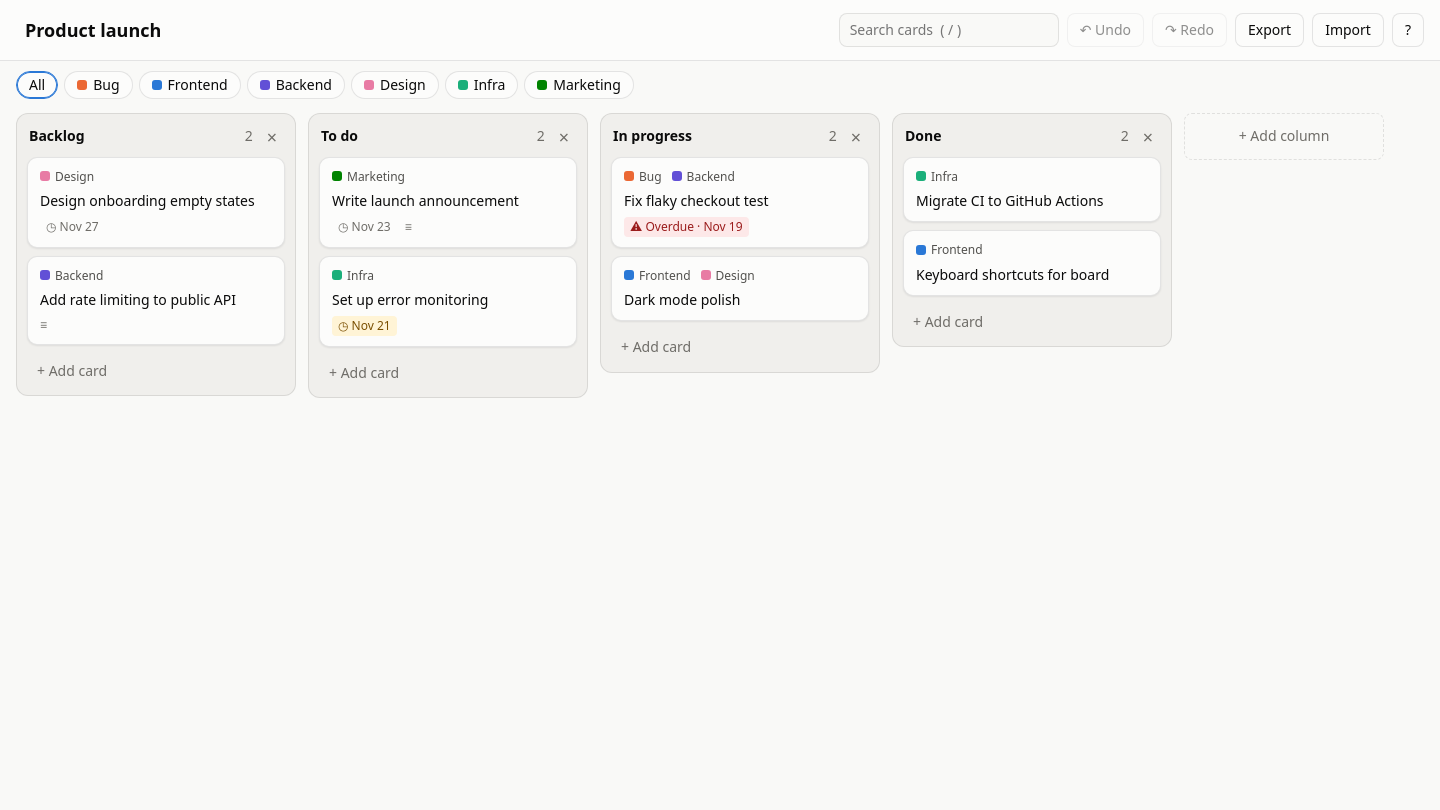
<App /> › adds a card and undoes it with the keyboard
Click the 3rd button "+ Add card". click: (72, 370)
box: [25,355,287,387]
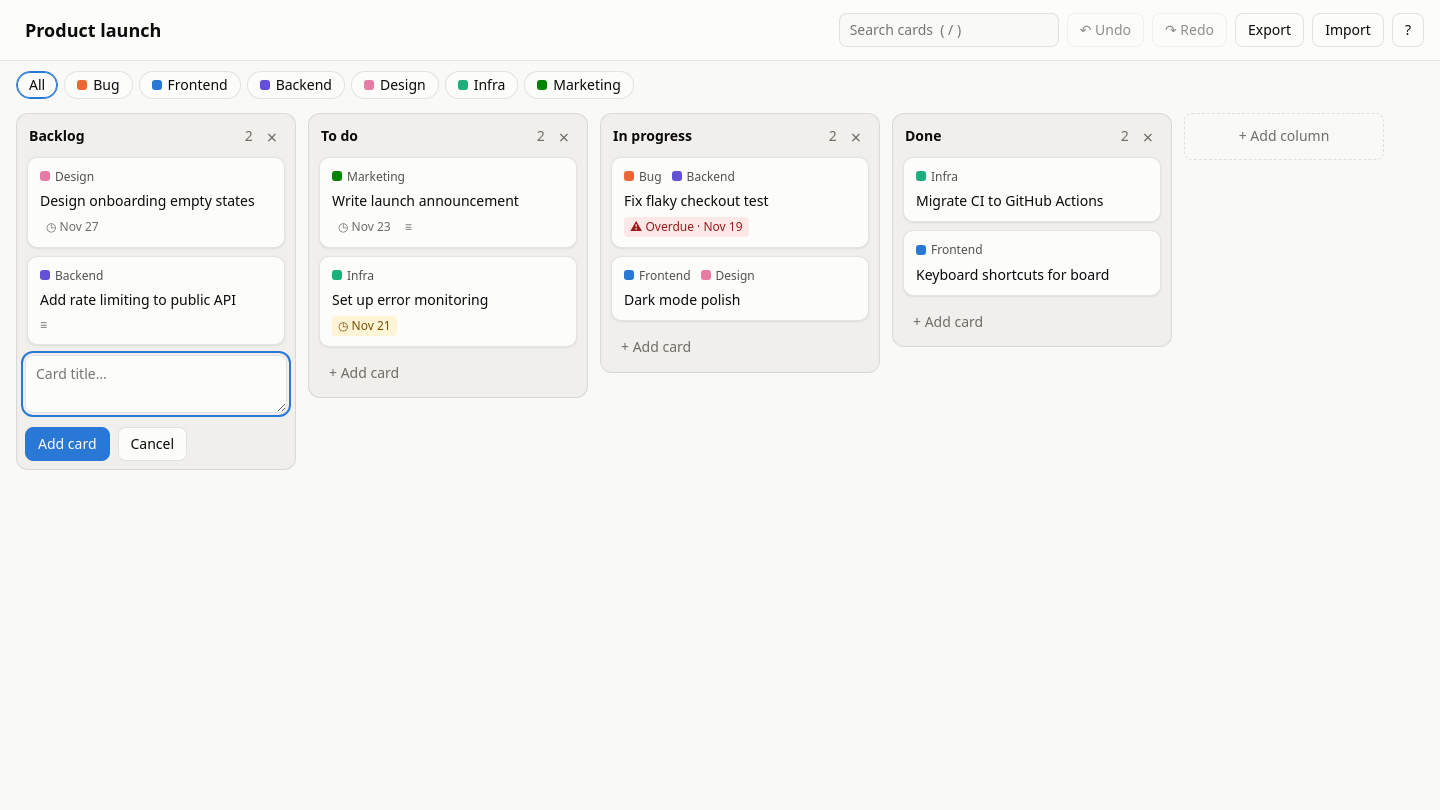
Type "Ship v2" into the text box named "New card in Backlog". click: (156, 384)
box: [25,355,287,413]
Then press Enter
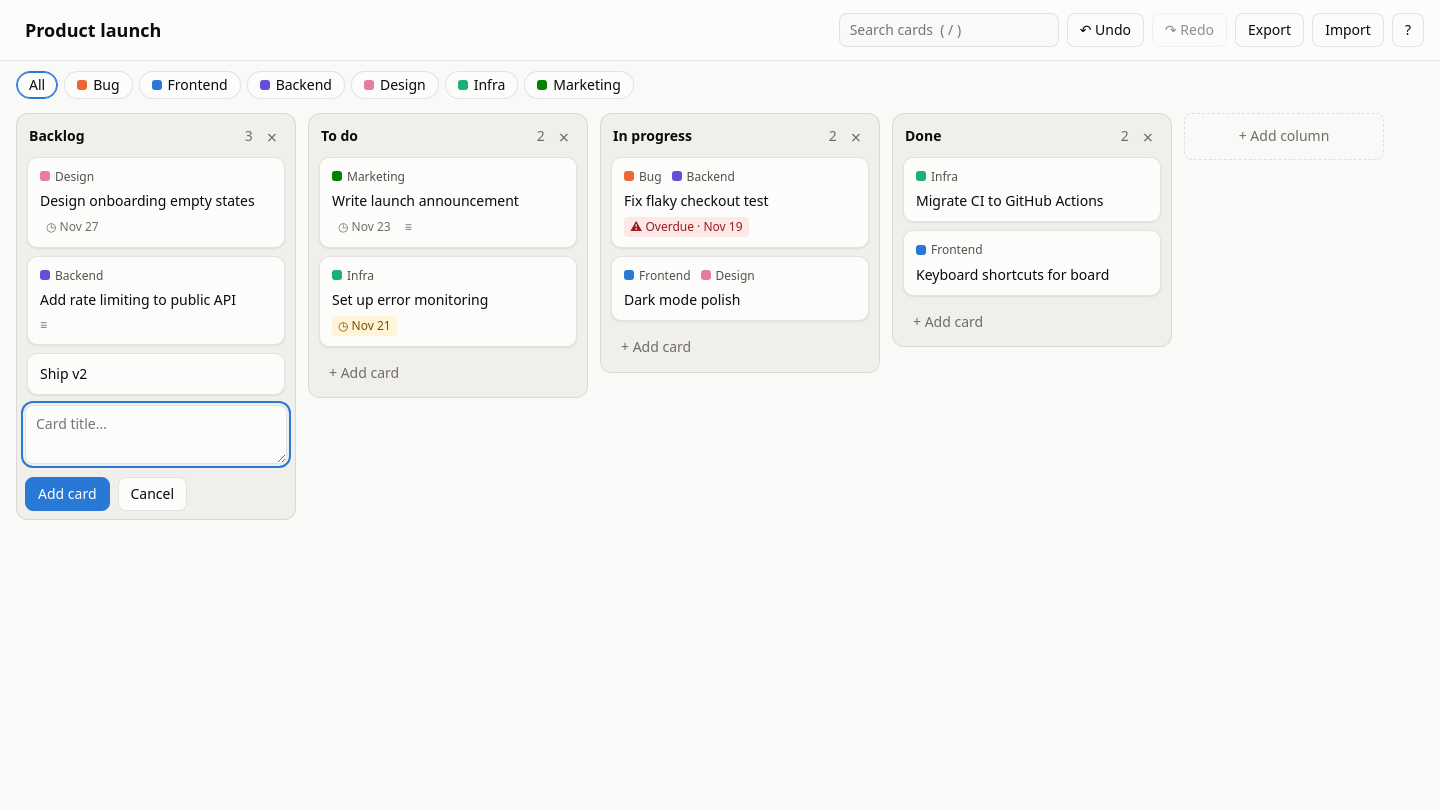
Check: the text "Ship v2" is shown, box [40,364,87,383]
Click the element that starts with "↶ Undo". click: (720, 405)
box: [0,0,1439,809]
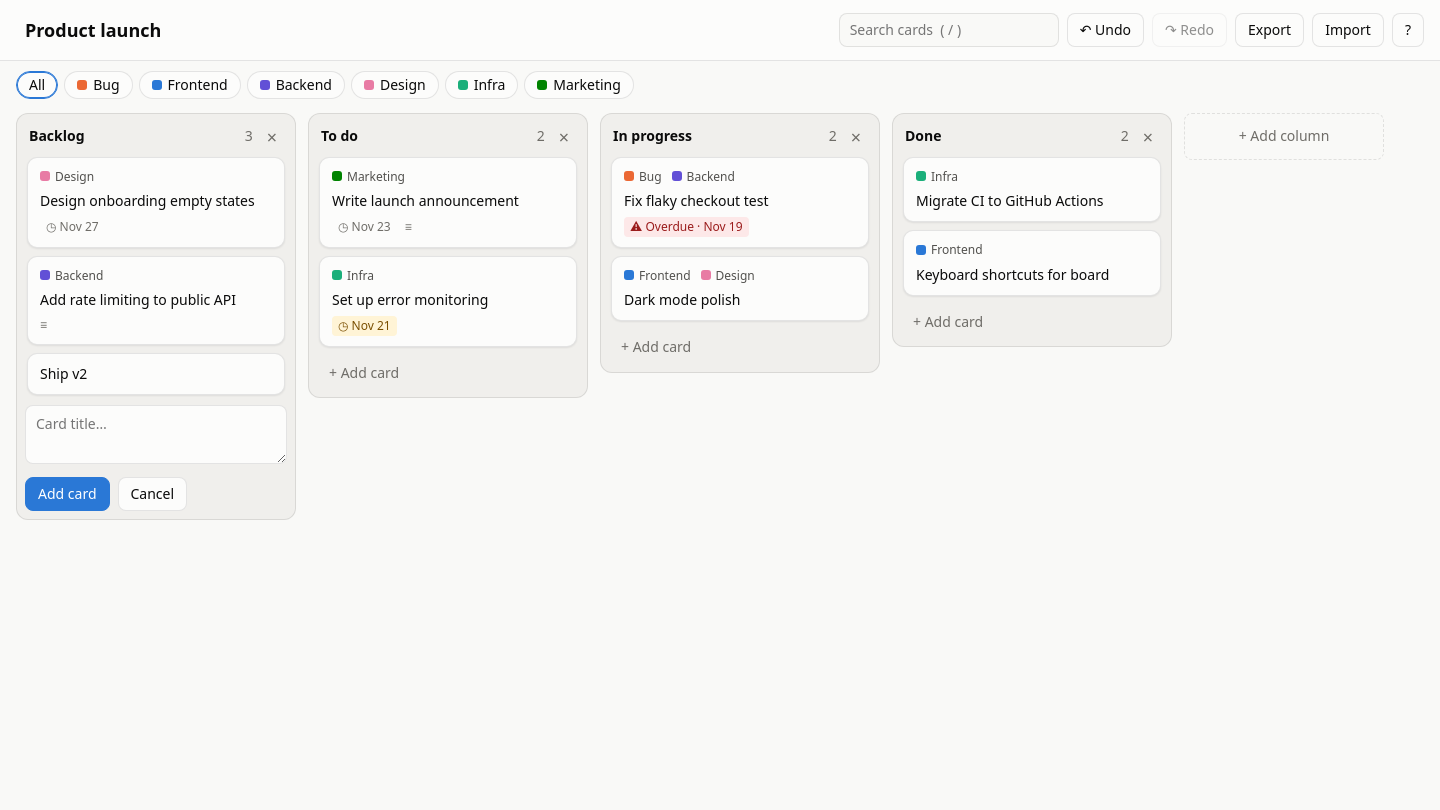
Type keys "{Escape}{Control>}z{/Control}"
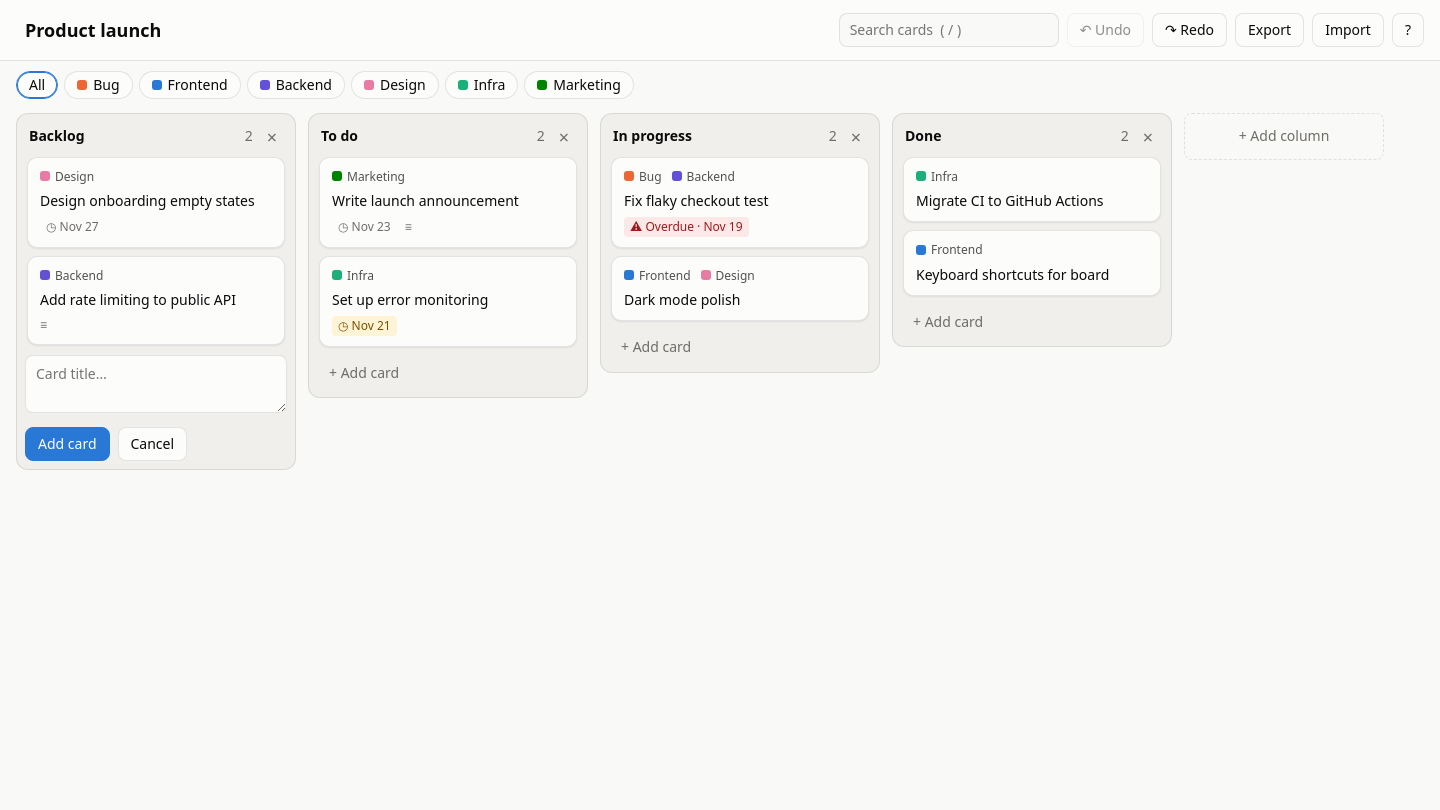
Check: the button "Ship v2" is gone
Type keys "{Control>}{Shift>}z{/Shift}{/Control}"
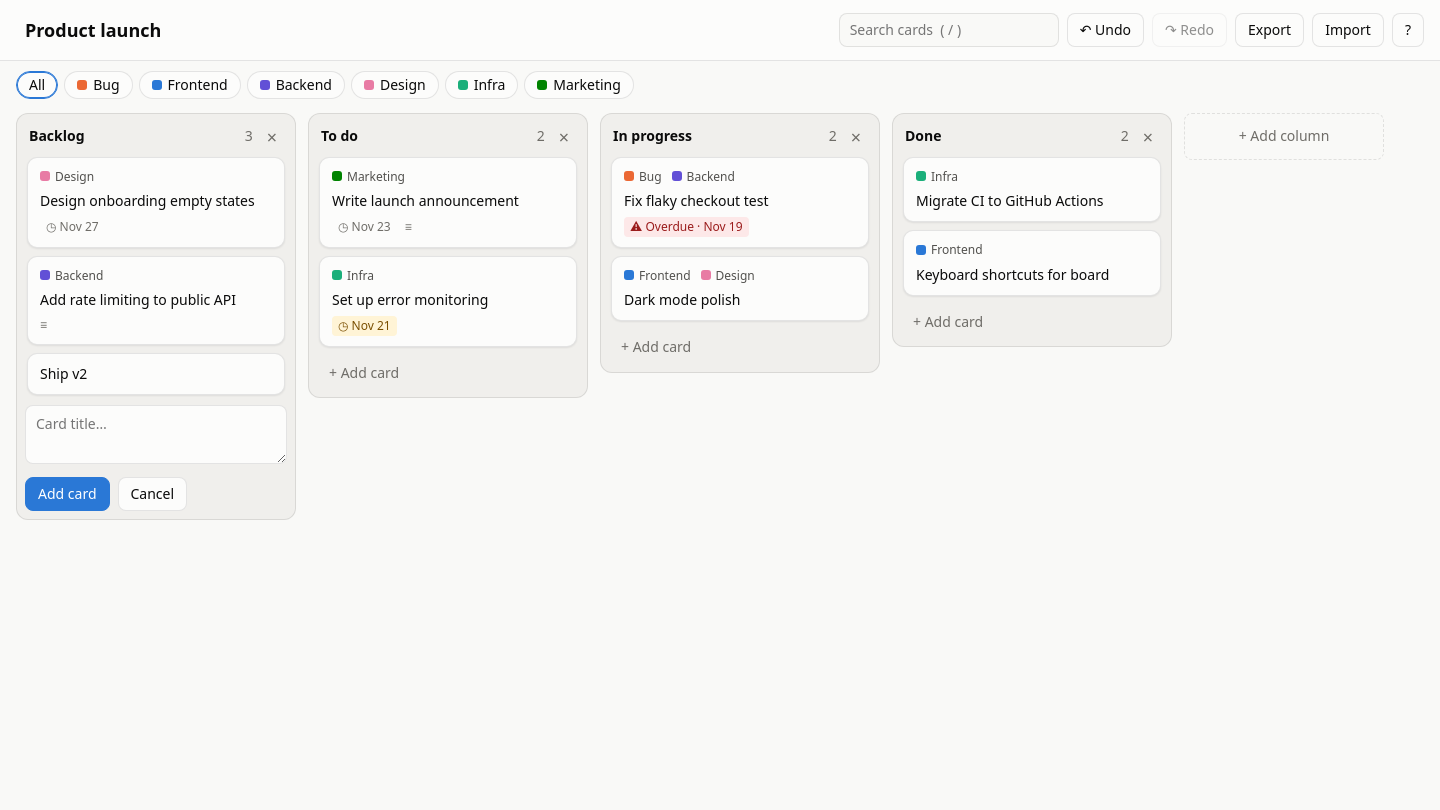
Check: the text "Ship v2" is shown, box [40,364,87,383]
